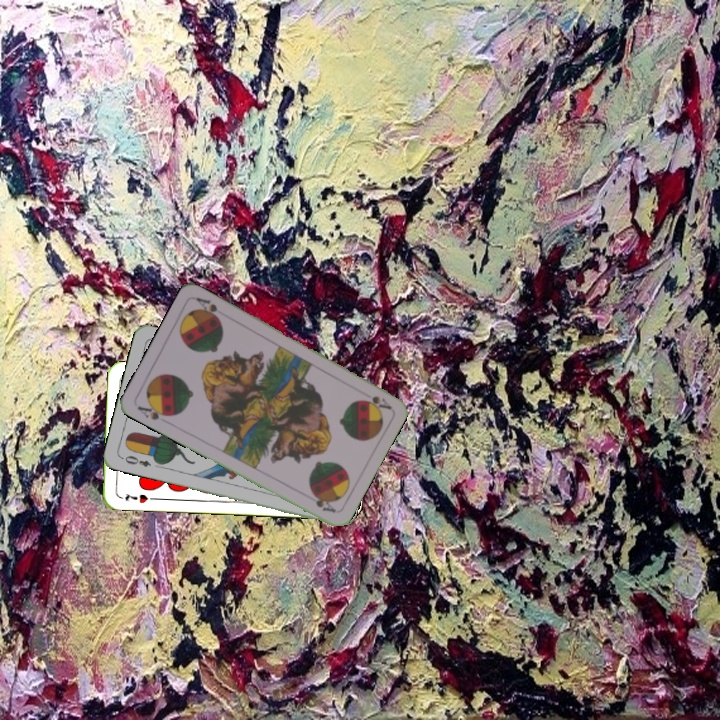EO: (118, 452, 153, 470)
H7: (121, 490, 150, 506)
SA: (133, 399, 174, 423), (367, 392, 394, 412)
